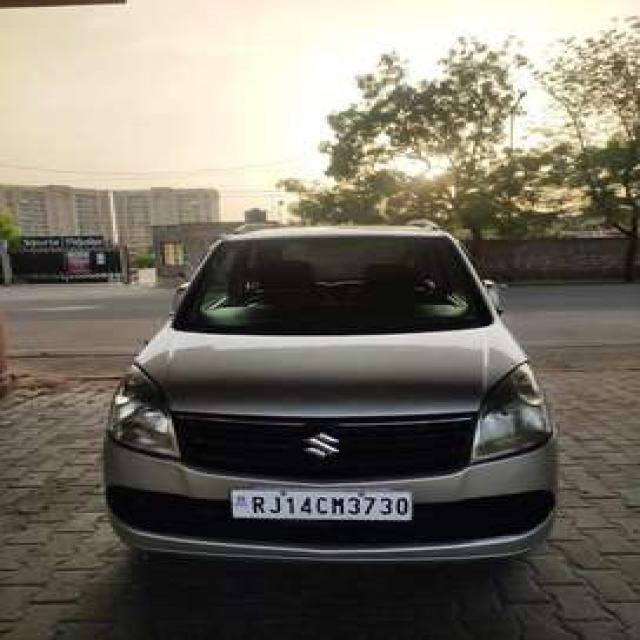Plate: (230, 488, 411, 519)
